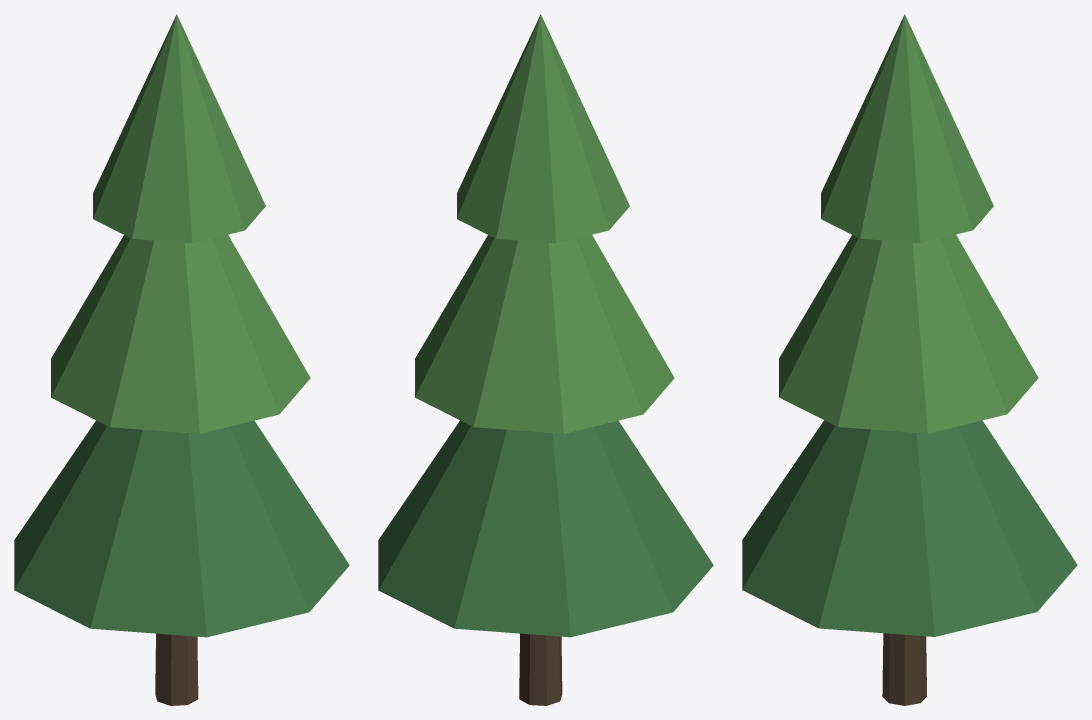
File: tree_pine.glb
The picture shows the model from 3 angles, left to right: view 1: azimuth 30°, elevation 25°; view 2: azimuth 150°, elevation 25°; view 3: azimuth 270°, elevation 25°; orthographic projection.
Parts seen in each view (by area): view 1: tree_pine; view 2: tree_pine; view 3: tree_pine.
Boxes of the visible parts, x1,y1,x2,y2 form: tree_pine: [14, 14, 349, 705]; tree_pine: [378, 14, 713, 705]; tree_pine: [742, 14, 1077, 705].
Bounding box in the file's own units: 3.05 × 6.75 × 3.01.
